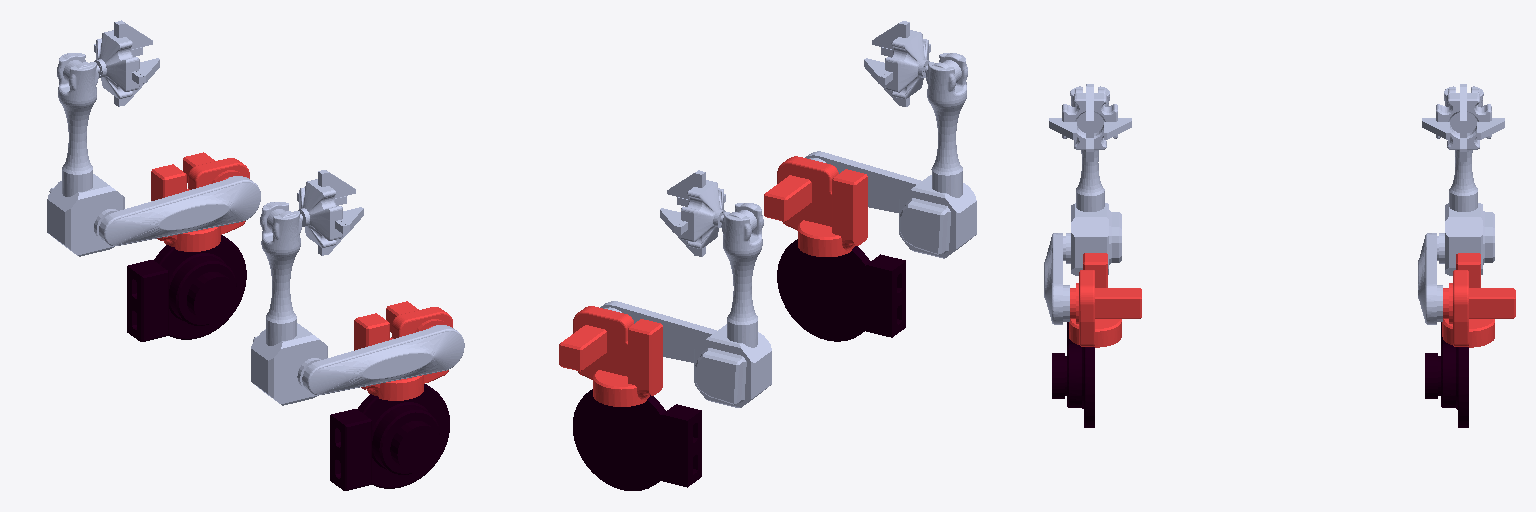
--- Facts derived from the render (not from the file) ---
The picture shows the robot from 3 angles, left to right: view 1: azimuth 30°, elevation 25°; view 2: azimuth 150°, elevation 25°; view 3: azimuth 270°, elevation 25°; orthographic projection.
Model my_robot with 25 links and 24 joints (10 revolute, 2 continuous, 12 fixed), rooted at central_base_link, posed all joints at 0.
Links seen in each view (by area): view 1: right_base_link, left_base_link, left_arm_link_2, right_arm_link_2, left_arm_link_3, right_arm_link_3, right_arm_link_1, left_arm_link_1, right_arm_link_4, left_arm_link_4, right_eef_link, left_eef_link (+2 smaller); view 2: left_base_link, right_base_link, right_arm_link_1, left_arm_link_1, right_arm_link_3, left_arm_link_3, left_arm_link_4, right_arm_link_4, left_arm_link_2, right_arm_link_2, right_eef_link, left_eef_link (+2 smaller); view 3: left_arm_link_1, right_arm_link_1, right_arm_link_3, left_arm_link_3, left_base_link, right_base_link, left_eef_link, right_eef_link, right_arm_link_2, left_arm_link_2, left_arm_link_4, right_arm_link_4.
Boxes of the visible links, x1,y1,x2,y2 form: right_base_link: [330, 384, 449, 490]; left_base_link: [127, 235, 246, 341]; left_arm_link_2: [99, 176, 260, 245]; right_arm_link_2: [302, 325, 464, 394]; left_arm_link_3: [47, 170, 124, 256]; right_arm_link_3: [251, 319, 327, 405]; right_arm_link_1: [354, 301, 452, 400]; left_arm_link_1: [151, 152, 249, 251]; right_arm_link_4: [260, 202, 301, 323]; left_arm_link_4: [57, 53, 98, 174]; right_eef_link: [299, 179, 342, 247]; left_eef_link: [96, 30, 139, 98]; left_base_link: [573, 389, 701, 490]; right_base_link: [777, 239, 905, 341]; right_arm_link_1: [764, 156, 867, 256]; left_arm_link_1: [559, 306, 662, 406]; right_arm_link_3: [899, 171, 976, 258]; left_arm_link_3: [694, 320, 771, 407]; left_arm_link_4: [721, 203, 763, 324]; right_arm_link_4: [926, 53, 967, 175]; left_arm_link_2: [600, 301, 716, 362]; right_arm_link_2: [805, 151, 920, 212]; right_eef_link: [885, 30, 928, 99]; left_eef_link: [681, 180, 723, 248]; left_arm_link_1: [1442, 253, 1515, 347]; right_arm_link_1: [1069, 253, 1141, 347]; right_arm_link_3: [1063, 191, 1121, 275]; left_arm_link_3: [1437, 191, 1494, 275]; left_base_link: [1425, 322, 1468, 427]; right_base_link: [1052, 322, 1094, 427]; left_eef_link: [1436, 93, 1491, 149]; right_eef_link: [1062, 93, 1117, 149]; right_arm_link_2: [1044, 233, 1069, 324]; left_arm_link_2: [1418, 233, 1442, 324]; left_arm_link_4: [1444, 86, 1483, 195]; right_arm_link_4: [1070, 86, 1109, 195].
Size in the robot's own frame: 1.07 by 2.52 by 1.8 metres.
24 mesh visuals loaded from 12 distinct referenced files (12 binary STL).

URDF robot description (my_robot):
<?xml version="1.0" ?>
<!-- =================================================================================== -->
<!-- |    This document was autogenerated by xacro from [local-path]/local_git/robotermodelierung/ws_robotermodelierung/src/my_robot_urdf/urdf/robot.xacro | -->
<!-- |    EDITING THIS FILE BY HAND IS NOT RECOMMENDED                                 | -->
<!-- =================================================================================== -->
<robot name="my_robot">
    <!-- Main body link (if not defined elsewhere) -->
    <link name="central_base_link" />
    <!-- Define the base link of the arm -->
    <link name="left_base_link">
        <inertial>
            <origin rpy="0 0 0" xyz="0 1 0" />
            <mass value="33.891578448587" />
            <inertia ixx="0.562042604088221" ixy="-9.14376784490416E-12" ixz="0.00403961419511076" iyy="0.970694427805805" iyz="-7.30601560182848E-12" izz="1.29713482615658" />
        </inertial>
        <visual>
            <origin rpy="0 0 0" xyz="0 0 0" />
            <geometry>
                <mesh filename="package://my_robot_urdf/meshes/base_link.STL" />
            </geometry>
            <material name="">
                <color rgba="0.152941176470588 0 0.117647058823529 1" />
            </material>
        </visual>
        <collision>
            <origin rpy="0 0 0" xyz="0 0 0" />
            <geometry>
                <mesh filename="package://my_robot_urdf/meshes/base_link.STL" />
            </geometry>
        </collision>
    </link>
    <!-- Define the joint connecting this arm to the parent link -->
    <joint name="left_base_joint" type="fixed">
        <origin rpy="0 0 0" xyz="0 1 0" />
        <parent link="central_base_link" />
        <child link="left_base_link" />
    </joint>
    <link name="left_arm_link_1">
        <inertial>
            <origin rpy="0 0 0" xyz="0.0416589398280025 -3.68988089329334E-05 0.19712083516126" />
            <mass value="26.7048266497369" />
            <inertia ixx="0.495499615132855" ixy="-0.0102760504758245" ixz="-0.0600935399650257" iyy="0.766768677077223" iyz="-0.0115358881770517" izz="0.604967931690783" />
        </inertial>
        <visual>
            <origin rpy="0 0 0" xyz="0 0 0" />
            <geometry>
                <mesh filename="package://my_robot_urdf/meshes/arm_link_1.STL" />
            </geometry>
            <material name="">
                <color rgba="1 0.309803921568627 0.309803921568627 1" />
            </material>
        </visual>
        <collision>
            <origin rpy="0 0 0" xyz="0 0 0" />
            <geometry>
                <mesh filename="package://my_robot_urdf/meshes/arm_link_1.STL" />
            </geometry>
        </collision>
    </link>
    <joint name="left_arm_joint_1" type="revolute">
        <origin rpy="0 0 0" xyz="0 0 0.234000000000013" />
        <parent link="left_base_link" />
        <child link="left_arm_link_1" />
        <axis xyz="0 0 1" />
        <limit effort="0" lower="-3.1416" upper="3.1416" velocity="0" />
    </joint>
    <link name="left_arm_link_2">
        <inertial>
            <origin rpy="0 0 0" xyz="-0.290203503422467 0.000258724363916829 0.0707589768311214" />
            <mass value="14.3270690802686" />
            <inertia ixx="0.0504590836189902" ixy="4.64678003354567E-05" ixz="0.0137202067906074" iyy="0.848873613210201" iyz="-0.000175299197197552" izz="0.874803778149419" />
        </inertial>
        <visual>
            <origin rpy="0 0 0" xyz="0 0 0" />
            <geometry>
                <mesh filename="package://my_robot_urdf/meshes/arm_link_2.STL" />
            </geometry>
            <material name="">
                <color rgba="0.792156862745098 0.819607843137255 0.933333333333333 1" />
            </material>
        </visual>
        <collision>
            <origin rpy="0 0 0" xyz="0 0 0" />
            <geometry>
                <mesh filename="package://my_robot_urdf/meshes/arm_link_2.STL" />
            </geometry>
        </collision>
    </link>
    <joint name="left_arm_joint_2" type="revolute">
        <origin rpy="1.5707963267949 0 0" xyz="0.150000000000002 -0.1375 0.265" />
        <parent link="left_arm_link_1" />
        <child link="left_arm_link_2" />
        <axis xyz="0 0 1" />
        <limit effort="0" lower="-3.1416" upper="3.1416" velocity="0" />
    </joint>
    <link name="left_arm_link_3">
        <inertial>
            <origin rpy="0 0 0" xyz="0.0664637155357432 0.0362614171159604 0.123132908024542" />
            <mass value="27.1450417424437" />
            <inertia ixx="0.420912669748457" ixy="-0.0211648441841247" ixz="-0.00675660536457725" iyy="0.344868303293538" iyz="0.00338242702861573" izz="0.473964503565446" />
        </inertial>
        <visual>
            <origin rpy="0 0 0" xyz="0 0 0" />
            <geometry>
                <mesh filename="package://my_robot_urdf/meshes/arm_link_3.STL" />
            </geometry>
            <material name="">
                <color rgba="0.792156862745098 0.819607843137255 0.933333333333333 1" />
            </material>
        </visual>
        <collision>
            <origin rpy="0 0 0" xyz="0 0 0" />
            <geometry>
                <mesh filename="package://my_robot_urdf/meshes/arm_link_3.STL" />
            </geometry>
        </collision>
    </link>
    <joint name="left_arm_joint_3" type="continuous">
        <origin rpy="3.14159265358979 0 3.14159265358979" xyz="-0.700000000000001 0 0" />
        <parent link="left_arm_link_2" />
        <child link="left_arm_link_3" />
        <axis xyz="0 0 -1" />
        <limit effort="0" lower="-3.1416" upper="3.1416" velocity="0" />
    </joint>
    <link name="left_arm_link_4">
        <inertial>
            <origin rpy="0 0 0" xyz="5.19381656460816E-07 4.95817308893837E-07 0.338893744219759" />
            <mass value="7.96664349020365" />
            <inertia ixx="0.223048843574734" ixy="-0.000166072999280483" ixz="4.33220175839122E-07" iyy="0.215976713293833" iyz="-3.48765154255128E-07" izz="0.0300827685994122" />
        </inertial>
        <visual>
            <origin rpy="0 0 0" xyz="0 0 0" />
            <geometry>
                <mesh filename="package://my_robot_urdf/meshes/arm_link_4.STL" />
            </geometry>
            <material name="">
                <color rgba="0.792156862745098 0.819607843137255 0.933333333333333 1" />
            </material>
        </visual>
        <collision>
            <origin rpy="0 0 0" xyz="0 0 0" />
            <geometry>
                <mesh filename="package://my_robot_urdf/meshes/arm_link_4.STL" />
            </geometry>
        </collision>
    </link>
    <joint name="left_arm_joint_4" type="revolute">
        <origin rpy="1.5707963267949 0 3.14159265358979" xyz="0.115 0.289996513803296 0.11" />
        <parent link="left_arm_link_3" />
        <child link="left_arm_link_4" />
        <axis xyz="0 0 1" />
        <limit effort="0" lower="-3.1416" upper="3.1416" velocity="0" />
    </joint>
    <link name="left_arm_link_5">
        <inertial>
            <origin rpy="0 0 0" xyz="-0.00224018993807718 -7.93515697594671E-10 -4.63650767085211E-10" />
            <mass value="0.961734748124672" />
            <inertia ixx="0.00154678090917305" ixy="8.85889008790739E-10" ixz="1.41969821668856E-11" iyy="0.00143991315628678" iyz="9.91727417863987E-10" izz="0.00165625576362529" />
        </inertial>
        <visual>
            <origin rpy="0 0 0" xyz="0 0 0" />
            <geometry>
                <mesh filename="package://my_robot_urdf/meshes/arm_link_5.STL" />
            </geometry>
            <material name="">
                <color rgba="0.792156862745098 0.819607843137255 0.933333333333333 1" />
            </material>
        </visual>
        <collision>
            <origin rpy="0 0 0" xyz="0 0 0" />
            <geometry>
                <mesh filename="package://my_robot_urdf/meshes/arm_link_5.STL" />
            </geometry>
        </collision>
    </link>
    <joint name="left_arm_joint_5" type="revolute">
        <origin rpy="1.5707963267949 0 0" xyz="0 0 0.510003486196704" />
        <parent link="left_arm_link_4" />
        <child link="left_arm_link_5" />
        <axis xyz="0 0 1" />
        <limit effort="0" lower="-4.7124" upper="1.5708" velocity="0" />
    </joint>
    <link name="left_arm_link_6">
        <inertial>
            <origin rpy="0 0 0" xyz="2.47238263195726E-08 2.0518347576548E-09 0.052725963344278" />
            <mass value="0.288779624800079" />
            <inertia ixx="0.000386925186804297" ixy="-2.51402341445703E-12" ixz="-3.11942429904297E-13" iyy="0.000386925215104185" iyz="-2.74312353784785E-14" izz="0.000212753902483572" />
        </inertial>
        <visual>
            <origin rpy="0 0 0" xyz="0 0 0" />
            <geometry>
                <mesh filename="package://my_robot_urdf/meshes/arm_link_6.STL" />
            </geometry>
            <material name="">
                <color rgba="0.792156862745098 0.819607843137255 0.933333333333333 1" />
            </material>
        </visual>
        <collision>
            <origin rpy="0 0 0" xyz="0 0 0" />
            <geometry>
                <mesh filename="package://my_robot_urdf/meshes/arm_link_6.STL" />
            </geometry>
        </collision>
    </link>
    <joint name="left_arm_joint_6" type="revolute">
        <origin rpy="-1.5707963267949 0 -1.5707963267949" xyz="0.0450000000000004 0 0" />
        <parent link="left_arm_link_5" />
        <child link="left_arm_link_6" />
        <axis xyz="0 0 1" />
        <limit effort="0" lower="-3.1416" upper="3.1416" velocity="0" />
    </joint>
    <link name="left_eef_link">
        <inertial>
            <origin rpy="0 0 0" xyz="-9.30830701406649E-09 -4.47423127714064E-09 -0.0188761945416884" />
            <mass value="5.46782575492837" />
            <inertia ixx="0.0365076087226209" ixy="-1.69594623176887E-09" ixz="2.84396742647187E-09" iyy="0.0365076302641158" iyz="1.3669924295319E-09" izz="0.0627860547898383" />
        </inertial>
        <visual>
            <origin rpy="0 0 0" xyz="0 0 0" />
            <geometry>
                <mesh filename="package://my_robot_urdf/meshes/eef_link.STL" />
            </geometry>
            <material name="">
                <color rgba="0.792156862745098 0.819607843137255 0.933333333333333 1" />
            </material>
        </visual>
        <collision>
            <origin rpy="0 0 0" xyz="0 0 0" />
            <geometry>
                <mesh filename="package://my_robot_urdf/meshes/eef_link.STL" />
            </geometry>
        </collision>
    </link>
    <joint name="left_eef_link_fixed" type="fixed">
        <origin rpy="3.14159265358979 0 3.14159265358979" xyz="0 0 0.145" />
        <parent link="left_arm_link_6" />
        <child link="left_eef_link" />
        <axis xyz="0 0 0" />
    </joint>
    <link name="left_eef_jaw_1">
        <inertial>
            <origin rpy="0 0 0" xyz="0.0869730343447335 -0.02 0.0799489474646907" />
            <mass value="0.672155087926634" />
            <inertia ixx="0.00170709281582639" ixy="-2.10297489845672E-19" ixz="-0.000828153130362926" iyy="0.00264620439405273" iyz="-1.13884847286996E-19" izz="0.00111534333500677" />
        </inertial>
        <visual>
            <origin rpy="0 0 0" xyz="0 0 0" />
            <geometry>
                <mesh filename="package://my_robot_urdf/meshes/eef_jaw_1.STL" />
            </geometry>
            <material name="">
                <color rgba="0.792156862745098 0.819607843137255 0.933333333333333 1" />
            </material>
        </visual>
        <collision>
            <origin rpy="0 0 0" xyz="0 0 0" />
            <geometry>
                <mesh filename="package://my_robot_urdf/meshes/eef_jaw_1.STL" />
            </geometry>
        </collision>
    </link>
    <joint name="left_eef_jaw_1_joint_fixed" type="fixed">
        <origin rpy="3.14159265358979 0 0" xyz="-0.222284161474005 -0.0199999999999985 -0.0299999999999994" />
        <parent link="left_eef_link" />
        <child link="left_eef_jaw_1" />
        <axis xyz="0 0 0" />
    </joint>
    <link name="left_eef_jaw_2">
        <inertial>
            <origin rpy="0 0 0" xyz="0.0869730343447341 0.02 -0.0799489474646903" />
            <mass value="0.672155087926635" />
            <inertia ixx="0.00170709281582639" ixy="-5.6339619860202E-19" ixz="0.000828153130362932" iyy="0.00264620439405273" iyz="3.28558952421928E-19" izz="0.00111534333500678" />
        </inertial>
        <visual>
            <origin rpy="0 0 0" xyz="0 0 0" />
            <geometry>
                <mesh filename="package://my_robot_urdf/meshes/eef_jaw_2.STL" />
            </geometry>
            <material name="">
                <color rgba="0.792156862745098 0.819607843137255 0.933333333333333 1" />
            </material>
        </visual>
        <collision>
            <origin rpy="0 0 0" xyz="0 0 0" />
            <geometry>
                <mesh filename="package://my_robot_urdf/meshes/eef_jaw_2.STL" />
            </geometry>
        </collision>
    </link>
    <joint name="left_eef_jaw_2_joint_fixed" type="fixed">
        <origin rpy="0 0 3.14159265358979" xyz="0.222284161474005 0.0200000000000028 -0.0300000000000008" />
        <parent link="left_eef_link" />
        <child link="left_eef_jaw_2" />
        <axis xyz="0 0 0" />
    </joint>
    <link name="left_eef_jaw_3">
        <inertial>
            <origin rpy="0 0 0" xyz="0.0869730343447339 0.0199999999999998 -0.0799489474646904" />
            <mass value="0.672155087926635" />
            <inertia ixx="0.00170709281582639" ixy="1.22645739197657E-18" ixz="0.000828153130362931" iyy="0.00264620439405273" iyz="-2.65524845194663E-18" izz="0.00111534333500678" />
        </inertial>
        <visual>
            <origin rpy="0 0 0" xyz="0 0 0" />
            <geometry>
                <mesh filename="package://my_robot_urdf/meshes/eef_jaw_3.STL" />
            </geometry>
            <material name="">
                <color rgba="0.792156862745098 0.819607843137255 0.933333333333333 1" />
            </material>
        </visual>
        <collision>
            <origin rpy="0 0 0" xyz="0 0 0" />
            <geometry>
                <mesh filename="package://my_robot_urdf/meshes/eef_jaw_3.STL" />
            </geometry>
        </collision>
    </link>
    <joint name="left_eef_jaw_3_joint_fixed" type="fixed">
        <origin rpy="0 0 1.5707963267949" xyz="0.02 -0.222284161474003 -0.03" />
        <parent link="left_eef_link" />
        <child link="left_eef_jaw_3" />
        <axis xyz="0 0 0" />
    </joint>
    <link name="left_eef_jaw_4">
        <inertial>
            <origin rpy="0 0 0" xyz="0.0869730343447339 0.02 -0.0799489474646904" />
            <mass value="0.672155087926635" />
            <inertia ixx="0.00170709281582639" ixy="-7.21958594590805E-19" ixz="0.00082815313036293" iyy="0.00264620439405273" iyz="3.18822450133064E-18" izz="0.00111534333500678" />
        </inertial>
        <visual>
            <origin rpy="0 0 0" xyz="0 0 0" />
            <geometry>
                <mesh filename="package://my_robot_urdf/meshes/eef_jaw_4.STL" />
            </geometry>
            <material name="">
                <color rgba="0.792156862745098 0.819607843137255 0.933333333333333 1" />
            </material>
        </visual>
        <collision>
            <origin rpy="0 0 0" xyz="0 0 0" />
            <geometry>
                <mesh filename="package://my_robot_urdf/meshes/eef_jaw_4.STL" />
            </geometry>
        </collision>
    </link>
    <joint name="left_eef_jaw_4_joint_fixed" type="fixed">
        <origin rpy="0 0 -1.5707963267949" xyz="-0.0200000000000002 0.222284161474006 -0.0299999999999999" />
        <parent link="left_eef_link" />
        <child link="left_eef_jaw_4" />
        <axis xyz="0 0 0" />
    </joint>
    <!-- Define the base link of the arm -->
    <link name="right_base_link">
        <inertial>
            <origin rpy="0 0 0" xyz="0 -1 0" />
            <mass value="33.891578448587" />
            <inertia ixx="0.562042604088221" ixy="-9.14376784490416E-12" ixz="0.00403961419511076" iyy="0.970694427805805" iyz="-7.30601560182848E-12" izz="1.29713482615658" />
        </inertial>
        <visual>
            <origin rpy="0 0 0" xyz="0 0 0" />
            <geometry>
                <mesh filename="package://my_robot_urdf/meshes/base_link.STL" />
            </geometry>
            <material name="">
                <color rgba="0.152941176470588 0 0.117647058823529 1" />
            </material>
        </visual>
        <collision>
            <origin rpy="0 0 0" xyz="0 0 0" />
            <geometry>
                <mesh filename="package://my_robot_urdf/meshes/base_link.STL" />
            </geometry>
        </collision>
    </link>
    <!-- Define the joint connecting this arm to the parent link -->
    <joint name="right_base_joint" type="fixed">
        <origin rpy="0 0 0" xyz="0 -1 0" />
        <parent link="central_base_link" />
        <child link="right_base_link" />
    </joint>
    <link name="right_arm_link_1">
        <inertial>
            <origin rpy="0 0 0" xyz="0.0416589398280025 -3.68988089329334E-05 0.19712083516126" />
            <mass value="26.7048266497369" />
            <inertia ixx="0.495499615132855" ixy="-0.0102760504758245" ixz="-0.0600935399650257" iyy="0.766768677077223" iyz="-0.0115358881770517" izz="0.604967931690783" />
        </inertial>
        <visual>
            <origin rpy="0 0 0" xyz="0 0 0" />
            <geometry>
                <mesh filename="package://my_robot_urdf/meshes/arm_link_1.STL" />
            </geometry>
            <material name="">
                <color rgba="1 0.309803921568627 0.309803921568627 1" />
            </material>
        </visual>
        <collision>
            <origin rpy="0 0 0" xyz="0 0 0" />
            <geometry>
                <mesh filename="package://my_robot_urdf/meshes/arm_link_1.STL" />
            </geometry>
        </collision>
    </link>
    <joint name="right_arm_joint_1" type="revolute">
        <origin rpy="0 0 0" xyz="0 0 0.234000000000013" />
        <parent link="right_base_link" />
        <child link="right_arm_link_1" />
        <axis xyz="0 0 1" />
        <limit effort="0" lower="-3.1416" upper="3.1416" velocity="0" />
    </joint>
    <link name="right_arm_link_2">
        <inertial>
            <origin rpy="0 0 0" xyz="-0.290203503422467 0.000258724363916829 0.0707589768311214" />
            <mass value="14.3270690802686" />
            <inertia ixx="0.0504590836189902" ixy="4.64678003354567E-05" ixz="0.0137202067906074" iyy="0.848873613210201" iyz="-0.000175299197197552" izz="0.874803778149419" />
        </inertial>
        <visual>
            <origin rpy="0 0 0" xyz="0 0 0" />
            <geometry>
                <mesh filename="package://my_robot_urdf/meshes/arm_link_2.STL" />
            </geometry>
            <material name="">
                <color rgba="0.792156862745098 0.819607843137255 0.933333333333333 1" />
            </material>
        </visual>
        <collision>
            <origin rpy="0 0 0" xyz="0 0 0" />
            <geometry>
                <mesh filename="package://my_robot_urdf/meshes/arm_link_2.STL" />
            </geometry>
        </collision>
    </link>
    <joint name="right_arm_joint_2" type="revolute">
        <origin rpy="1.5707963267949 0 0" xyz="0.150000000000002 -0.1375 0.265" />
        <parent link="right_arm_link_1" />
        <child link="right_arm_link_2" />
        <axis xyz="0 0 1" />
        <limit effort="0" lower="-3.1416" upper="3.1416" velocity="0" />
    </joint>
    <link name="right_arm_link_3">
        <inertial>
            <origin rpy="0 0 0" xyz="0.0664637155357432 0.0362614171159604 0.123132908024542" />
            <mass value="27.1450417424437" />
            <inertia ixx="0.420912669748457" ixy="-0.0211648441841247" ixz="-0.00675660536457725" iyy="0.344868303293538" iyz="0.00338242702861573" izz="0.473964503565446" />
        </inertial>
        <visual>
            <origin rpy="0 0 0" xyz="0 0 0" />
            <geometry>
                <mesh filename="package://my_robot_urdf/meshes/arm_link_3.STL" />
            </geometry>
            <material name="">
                <color rgba="0.792156862745098 0.819607843137255 0.933333333333333 1" />
            </material>
        </visual>
        <collision>
            <origin rpy="0 0 0" xyz="0 0 0" />
            <geometry>
                <mesh filename="package://my_robot_urdf/meshes/arm_link_3.STL" />
            </geometry>
        </collision>
    </link>
    <joint name="right_arm_joint_3" type="continuous">
        <origin rpy="3.14159265358979 0 3.14159265358979" xyz="-0.700000000000001 0 0" />
        <parent link="right_arm_link_2" />
        <child link="right_arm_link_3" />
        <axis xyz="0 0 -1" />
        <limit effort="0" lower="-3.1416" upper="3.1416" velocity="0" />
    </joint>
    <link name="right_arm_link_4">
        <inertial>
            <origin rpy="0 0 0" xyz="5.19381656460816E-07 4.95817308893837E-07 0.338893744219759" />
            <mass value="7.96664349020365" />
            <inertia ixx="0.223048843574734" ixy="-0.000166072999280483" ixz="4.33220175839122E-07" iyy="0.215976713293833" iyz="-3.48765154255128E-07" izz="0.0300827685994122" />
        </inertial>
        <visual>
            <origin rpy="0 0 0" xyz="0 0 0" />
            <geometry>
                <mesh filename="package://my_robot_urdf/meshes/arm_link_4.STL" />
            </geometry>
            <material name="">
                <color rgba="0.792156862745098 0.819607843137255 0.933333333333333 1" />
            </material>
        </visual>
        <collision>
            <origin rpy="0 0 0" xyz="0 0 0" />
            <geometry>
                <mesh filename="package://my_robot_urdf/meshes/arm_link_4.STL" />
            </geometry>
        </collision>
    </link>
    <joint name="right_arm_joint_4" type="revolute">
        <origin rpy="1.5707963267949 0 3.14159265358979" xyz="0.115 0.289996513803296 0.11" />
        <parent link="right_arm_link_3" />
        <child link="right_arm_link_4" />
        <axis xyz="0 0 1" />
        <limit effort="0" lower="-3.1416" upper="3.1416" velocity="0" />
    </joint>
    <link name="right_arm_link_5">
        <inertial>
            <origin rpy="0 0 0" xyz="-0.00224018993807718 -7.93515697594671E-10 -4.63650767085211E-10" />
            <mass value="0.961734748124672" />
            <inertia ixx="0.00154678090917305" ixy="8.85889008790739E-10" ixz="1.41969821668856E-11" iyy="0.00143991315628678" iyz="9.91727417863987E-10" izz="0.00165625576362529" />
        </inertial>
        <visual>
            <origin rpy="0 0 0" xyz="0 0 0" />
            <geometry>
                <mesh filename="package://my_robot_urdf/meshes/arm_link_5.STL" />
            </geometry>
            <material name="">
                <color rgba="0.792156862745098 0.819607843137255 0.933333333333333 1" />
            </material>
        </visual>
        <collision>
            <origin rpy="0 0 0" xyz="0 0 0" />
            <geometry>
                <mesh filename="package://my_robot_urdf/meshes/arm_link_5.STL" />
            </geometry>
        </collision>
    </link>
    <joint name="right_arm_joint_5" type="revolute">
        <origin rpy="1.5707963267949 0 0" xyz="0 0 0.510003486196704" />
        <parent link="right_arm_link_4" />
        <child link="right_arm_link_5" />
        <axis xyz="0 0 1" />
        <limit effort="0" lower="-4.7124" upper="1.5708" velocity="0" />
    </joint>
    <link name="right_arm_link_6">
        <inertial>
            <origin rpy="0 0 0" xyz="2.47238263195726E-08 2.0518347576548E-09 0.052725963344278" />
            <mass value="0.288779624800079" />
            <inertia ixx="0.000386925186804297" ixy="-2.51402341445703E-12" ixz="-3.11942429904297E-13" iyy="0.000386925215104185" iyz="-2.74312353784785E-14" izz="0.000212753902483572" />
        </inertial>
        <visual>
            <origin rpy="0 0 0" xyz="0 0 0" />
            <geometry>
                <mesh filename="package://my_robot_urdf/meshes/arm_link_6.STL" />
            </geometry>
            <material name="">
                <color rgba="0.792156862745098 0.819607843137255 0.933333333333333 1" />
            </material>
        </visual>
        <collision>
            <origin rpy="0 0 0" xyz="0 0 0" />
            <geometry>
                <mesh filename="package://my_robot_urdf/meshes/arm_link_6.STL" />
            </geometry>
        </collision>
    </link>
    <joint name="right_arm_joint_6" type="revolute">
        <origin rpy="-1.5707963267949 0 -1.5707963267949" xyz="0.0450000000000004 0 0" />
        <parent link="right_arm_link_5" />
        <child link="right_arm_link_6" />
        <axis xyz="0 0 1" />
        <limit effort="0" lower="-3.1416" upper="3.1416" velocity="0" />
    </joint>
    <link name="right_eef_link">
        <inertial>
            <origin rpy="0 0 0" xyz="-9.30830701406649E-09 -4.47423127714064E-09 -0.0188761945416884" />
            <mass value="5.46782575492837" />
            <inertia ixx="0.0365076087226209" ixy="-1.69594623176887E-09" ixz="2.84396742647187E-09" iyy="0.0365076302641158" iyz="1.3669924295319E-09" izz="0.0627860547898383" />
        </inertial>
        <visual>
            <origin rpy="0 0 0" xyz="0 0 0" />
            <geometry>
                <mesh filename="package://my_robot_urdf/meshes/eef_link.STL" />
            </geometry>
            <material name="">
                <color rgba="0.792156862745098 0.819607843137255 0.933333333333333 1" />
            </material>
        </visual>
        <collision>
            <origin rpy="0 0 0" xyz="0 0 0" />
            <geometry>
                <mesh filename="package://my_robot_urdf/meshes/eef_link.STL" />
            </geometry>
        </collision>
    </link>
    <joint name="right_eef_link_fixed" type="fixed">
        <origin rpy="3.14159265358979 0 3.14159265358979" xyz="0 0 0.145" />
        <parent link="right_arm_link_6" />
        <child link="right_eef_link" />
        <axis xyz="0 0 0" />
    </joint>
    <link name="right_eef_jaw_1">
        <inertial>
            <origin rpy="0 0 0" xyz="0.0869730343447335 -0.02 0.0799489474646907" />
            <mass value="0.672155087926634" />
            <inertia ixx="0.00170709281582639" ixy="-2.10297489845672E-19" ixz="-0.000828153130362926" iyy="0.00264620439405273" iyz="-1.13884847286996E-19" izz="0.00111534333500677" />
        </inertial>
        <visual>
            <origin rpy="0 0 0" xyz="0 0 0" />
            <geometry>
                <mesh filename="package://my_robot_urdf/meshes/eef_jaw_1.STL" />
            </geometry>
            <material name="">
                <color rgba="0.792156862745098 0.819607843137255 0.933333333333333 1" />
            </material>
        </visual>
        <collision>
            <origin rpy="0 0 0" xyz="0 0 0" />
            <geometry>
                <mesh filename="package://my_robot_urdf/meshes/eef_jaw_1.STL" />
            </geometry>
        </collision>
    </link>
    <joint name="right_eef_jaw_1_joint_fixed" type="fixed">
        <origin rpy="3.14159265358979 0 0" xyz="-0.222284161474005 -0.0199999999999985 -0.0299999999999994" />
        <parent link="right_eef_link" />
        <child link="right_eef_jaw_1" />
        <axis xyz="0 0 0" />
    </joint>
    <link name="right_eef_jaw_2">
        <inertial>
            <origin rpy="0 0 0" xyz="0.0869730343447341 0.02 -0.0799489474646903" />
            <mass value="0.672155087926635" />
            <inertia ixx="0.00170709281582639" ixy="-5.6339619860202E-19" ixz="0.000828153130362932" iyy="0.00264620439405273" iyz="3.28558952421928E-19" izz="0.00111534333500678" />
        </inertial>
        <visual>
            <origin rpy="0 0 0" xyz="0 0 0" />
            <geometry>
                <mesh filename="package://my_robot_urdf/meshes/eef_jaw_2.STL" />
            </geometry>
            <material name="">
                <color rgba="0.792156862745098 0.819607843137255 0.933333333333333 1" />
            </material>
        </visual>
        <collision>
            <origin rpy="0 0 0" xyz="0 0 0" />
            <geometry>
                <mesh filename="package://my_robot_urdf/meshes/eef_jaw_2.STL" />
            </geometry>
        </collision>
    </link>
    <joint name="right_eef_jaw_2_joint_fixed" type="fixed">
        <origin rpy="0 0 3.14159265358979" xyz="0.222284161474005 0.0200000000000028 -0.0300000000000008" />
        <parent link="right_eef_link" />
        <child link="right_eef_jaw_2" />
        <axis xyz="0 0 0" />
    </joint>
    <link name="right_eef_jaw_3">
        <inertial>
            <origin rpy="0 0 0" xyz="0.0869730343447339 0.0199999999999998 -0.0799489474646904" />
            <mass value="0.672155087926635" />
            <inertia ixx="0.00170709281582639" ixy="1.22645739197657E-18" ixz="0.000828153130362931" iyy="0.00264620439405273" iyz="-2.65524845194663E-18" izz="0.00111534333500678" />
        </inertial>
        <visual>
            <origin rpy="0 0 0" xyz="0 0 0" />
            <geometry>
                <mesh filename="package://my_robot_urdf/meshes/eef_jaw_3.STL" />
            </geometry>
            <material name="">
                <color rgba="0.792156862745098 0.819607843137255 0.933333333333333 1" />
            </material>
        </visual>
        <collision>
            <origin rpy="0 0 0" xyz="0 0 0" />
            <geometry>
                <mesh filename="package://my_robot_urdf/meshes/eef_jaw_3.STL" />
            </geometry>
        </collision>
    </link>
    <joint name="right_eef_jaw_3_joint_fixed" type="fixed">
        <origin rpy="0 0 1.5707963267949" xyz="0.02 -0.222284161474003 -0.03" />
        <parent link="right_eef_link" />
        <child link="right_eef_jaw_3" />
        <axis xyz="0 0 0" />
    </joint>
    <link name="right_eef_jaw_4">
        <inertial>
            <origin rpy="0 0 0" xyz="0.0869730343447339 0.02 -0.0799489474646904" />
            <mass value="0.672155087926635" />
            <inertia ixx="0.00170709281582639" ixy="-7.21958594590805E-19" ixz="0.00082815313036293" iyy="0.00264620439405273" iyz="3.18822450133064E-18" izz="0.00111534333500678" />
        </inertial>
        <visual>
            <origin rpy="0 0 0" xyz="0 0 0" />
            <geometry>
                <mesh filename="package://my_robot_urdf/meshes/eef_jaw_4.STL" />
            </geometry>
            <material name="">
                <color rgba="0.792156862745098 0.819607843137255 0.933333333333333 1" />
            </material>
        </visual>
        <collision>
            <origin rpy="0 0 0" xyz="0 0 0" />
            <geometry>
                <mesh filename="package://my_robot_urdf/meshes/eef_jaw_4.STL" />
            </geometry>
        </collision>
    </link>
    <joint name="right_eef_jaw_4_joint_fixed" type="fixed">
        <origin rpy="0 0 -1.5707963267949" xyz="-0.0200000000000002 0.222284161474006 -0.0299999999999999" />
        <parent link="right_eef_link" />
        <child link="right_eef_jaw_4" />
        <axis xyz="0 0 0" />
    </joint>
    <transmission name="trans_left_arm_joint_1">
        <type>transmission_interface/SimpleTransmission</type>
        <joint name="left_arm_joint_1">
            <hardwareInterface>hardware_interface/EffortJointInterface</hardwareInterface>
        </joint>
        <actuator name="left_arm_joint_1_motor">
            <hardwareInterface>hardware_interface/EffortJointInterface</hardwareInterface>
            <mechanicalReduction>1</mechanicalReduction>
        </actuator>
    </transmission>
    <transmission name="trans_left_arm_joint_2">
        <type>transmission_interface/SimpleTransmission</type>
        <joint name="left_arm_joint_2">
            <hardwareInterface>hardware_interface/EffortJointInterface</hardwareInterface>
        </joint>
        <actuator name="left_arm_joint_2_motor">
            <hardwareInterface>hardware_interface/EffortJointInterface</hardwareInterface>
            <mechanicalReduction>1</mechanicalReduction>
        </actuator>
    </transmission>
    <transmission name="trans_left_arm_joint_3">
        <type>transmission_interface/SimpleTransmission</type>
        <joint name="left_arm_joint_3">
            <hardwareInterface>hardware_interface/EffortJointInterface</hardwareInterface>
        </joint>
        <actuator name="left_arm_joint_3_motor">
            <hardwareInterface>hardware_interface/EffortJointInterface</hardwareInterface>
            <mechanicalReduction>1</mechanicalReduction>
        </actuator>
    </transmission>
    <transmission name="trans_left_arm_joint_4">
        <type>transmission_interface/SimpleTransmission</type>
        <joint name="left_arm_joint_4">
            <hardwareInterface>hardware_interface/EffortJointInterface</hardwareInterface>
        </joint>
        <actuator name="left_arm_joint_4_motor">
            <hardwareInterface>hardware_interface/EffortJointInterface</hardwareInterface>
            <mechanicalReduction>1</mechanicalReduction>
        </actuator>
    </transmission>
    <transmission name="trans_left_arm_joint_5">
        <type>transmission_interface/SimpleTransmission</type>
        <joint name="left_arm_joint_5">
            <hardwareInterface>hardware_interface/EffortJointInterface</hardwareInterface>
        </joint>
        <actuator name="left_arm_joint_5_motor">
            <hardwareInterface>hardware_interface/EffortJointInterface</hardwareInterface>
            <mechanicalReduction>1</mechanicalReduction>
        </actuator>
    </transmission>
    <transmission name="trans_left_arm_joint_6">
        <type>transmission_interface/SimpleTransmission</type>
        <joint name="left_arm_joint_6">
            <hardwareInterface>hardware_interface/EffortJointInterface</hardwareInterface>
        </joint>
        <actuator name="left_arm_joint_6_motor">
            <hardwareInterface>hardware_interface/EffortJointInterface</hardwareInterface>
            <mechanicalReduction>1</mechanicalReduction>
        </actuator>
    </transmission>
    <transmission name="trans_right_arm_joint_1">
        <type>transmission_interface/SimpleTransmission</type>
        <joint name="right_arm_joint_1">
            <hardwareInterface>hardware_interface/EffortJointInterface</hardwareInterface>
        </joint>
        <actuator name="right_arm_joint_1_motor">
            <hardwareInterface>hardware_interface/EffortJointInterface</hardwareInterface>
            <mechanicalReduction>1</mechanicalReduction>
        </actuator>
    </transmission>
    <transmission name="trans_right_arm_joint_2">
        <type>transmission_interface/SimpleTransmission</type>
        <joint name="right_arm_joint_2">
            <hardwareInterface>hardware_interface/EffortJointInterface</hardwareInterface>
        </joint>
        <actuator name="right_arm_joint_2_motor">
            <hardwareInterface>hardware_interface/EffortJointInterface</hardwareInterface>
            <mechanicalReduction>1</mechanicalReduction>
        </actuator>
    </transmission>
    <transmission name="trans_right_arm_joint_3">
        <type>transmission_interface/SimpleTransmission</type>
        <joint name="right_arm_joint_3">
            <hardwareInterface>hardware_interface/EffortJointInterface</hardwareInterface>
        </joint>
        <actuator name="right_arm_joint_3_motor">
            <hardwareInterface>hardware_interface/EffortJointInterface</hardwareInterface>
            <mechanicalReduction>1</mechanicalReduction>
        </actuator>
    </transmission>
    <transmission name="trans_right_arm_joint_4">
        <type>transmission_interface/SimpleTransmission</type>
        <joint name="right_arm_joint_4">
            <hardwareInterface>hardware_interface/EffortJointInterface</hardwareInterface>
        </joint>
        <actuator name="right_arm_joint_4_motor">
            <hardwareInterface>hardware_interface/EffortJointInterface</hardwareInterface>
            <mechanicalReduction>1</mechanicalReduction>
        </actuator>
    </transmission>
    <transmission name="trans_right_arm_joint_5">
        <type>transmission_interface/SimpleTransmission</type>
        <joint name="right_arm_joint_5">
            <hardwareInterface>hardware_interface/EffortJointInterface</hardwareInterface>
        </joint>
        <actuator name="right_arm_joint_5_motor">
            <hardwareInterface>hardware_interface/EffortJointInterface</hardwareInterface>
            <mechanicalReduction>1</mechanicalReduction>
        </actuator>
    </transmission>
    <transmission name="trans_right_arm_joint_6">
        <type>transmission_interface/SimpleTransmission</type>
        <joint name="right_arm_joint_6">
            <hardwareInterface>hardware_interface/EffortJointInterface</hardwareInterface>
        </joint>
        <actuator name="right_arm_joint_6_motor">
            <hardwareInterface>hardware_interface/EffortJointInterface</hardwareInterface>
            <mechanicalReduction>1</mechanicalReduction>
        </actuator>
    </transmission>
    <gazebo>
        <plugin name="gazebo_ros_control" filename="libgazebo_ros_control.so">
            <robotNamespace>/</robotNamespace>
        </plugin>
    </gazebo>
</robot>
